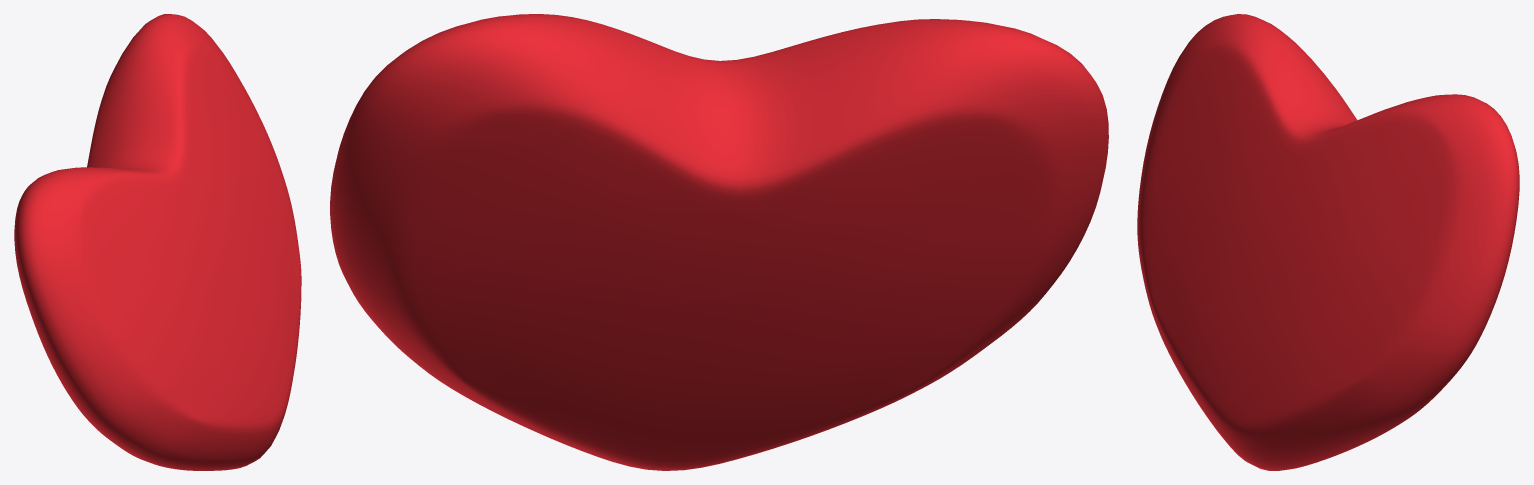
File: heart2.glb
The picture shows the model from 3 angles, left to right: view 1: azimuth 30°, elevation 25°; view 2: azimuth 150°, elevation 25°; view 3: azimuth 270°, elevation 25°; orthographic projection. The views are drawn at different scales.
Visible parts, largest first — view 1: Cube; view 2: Cube; view 3: Cube.
Part boxes in pixels (x1=…): Cube: x1=14, y1=14, x2=301, y2=470; Cube: x1=330, y1=14, x2=1108, y2=470; Cube: x1=1137, y1=14, x2=1519, y2=470.
Size of the model in its own units: 5.05 by 4.63 by 4.29.
